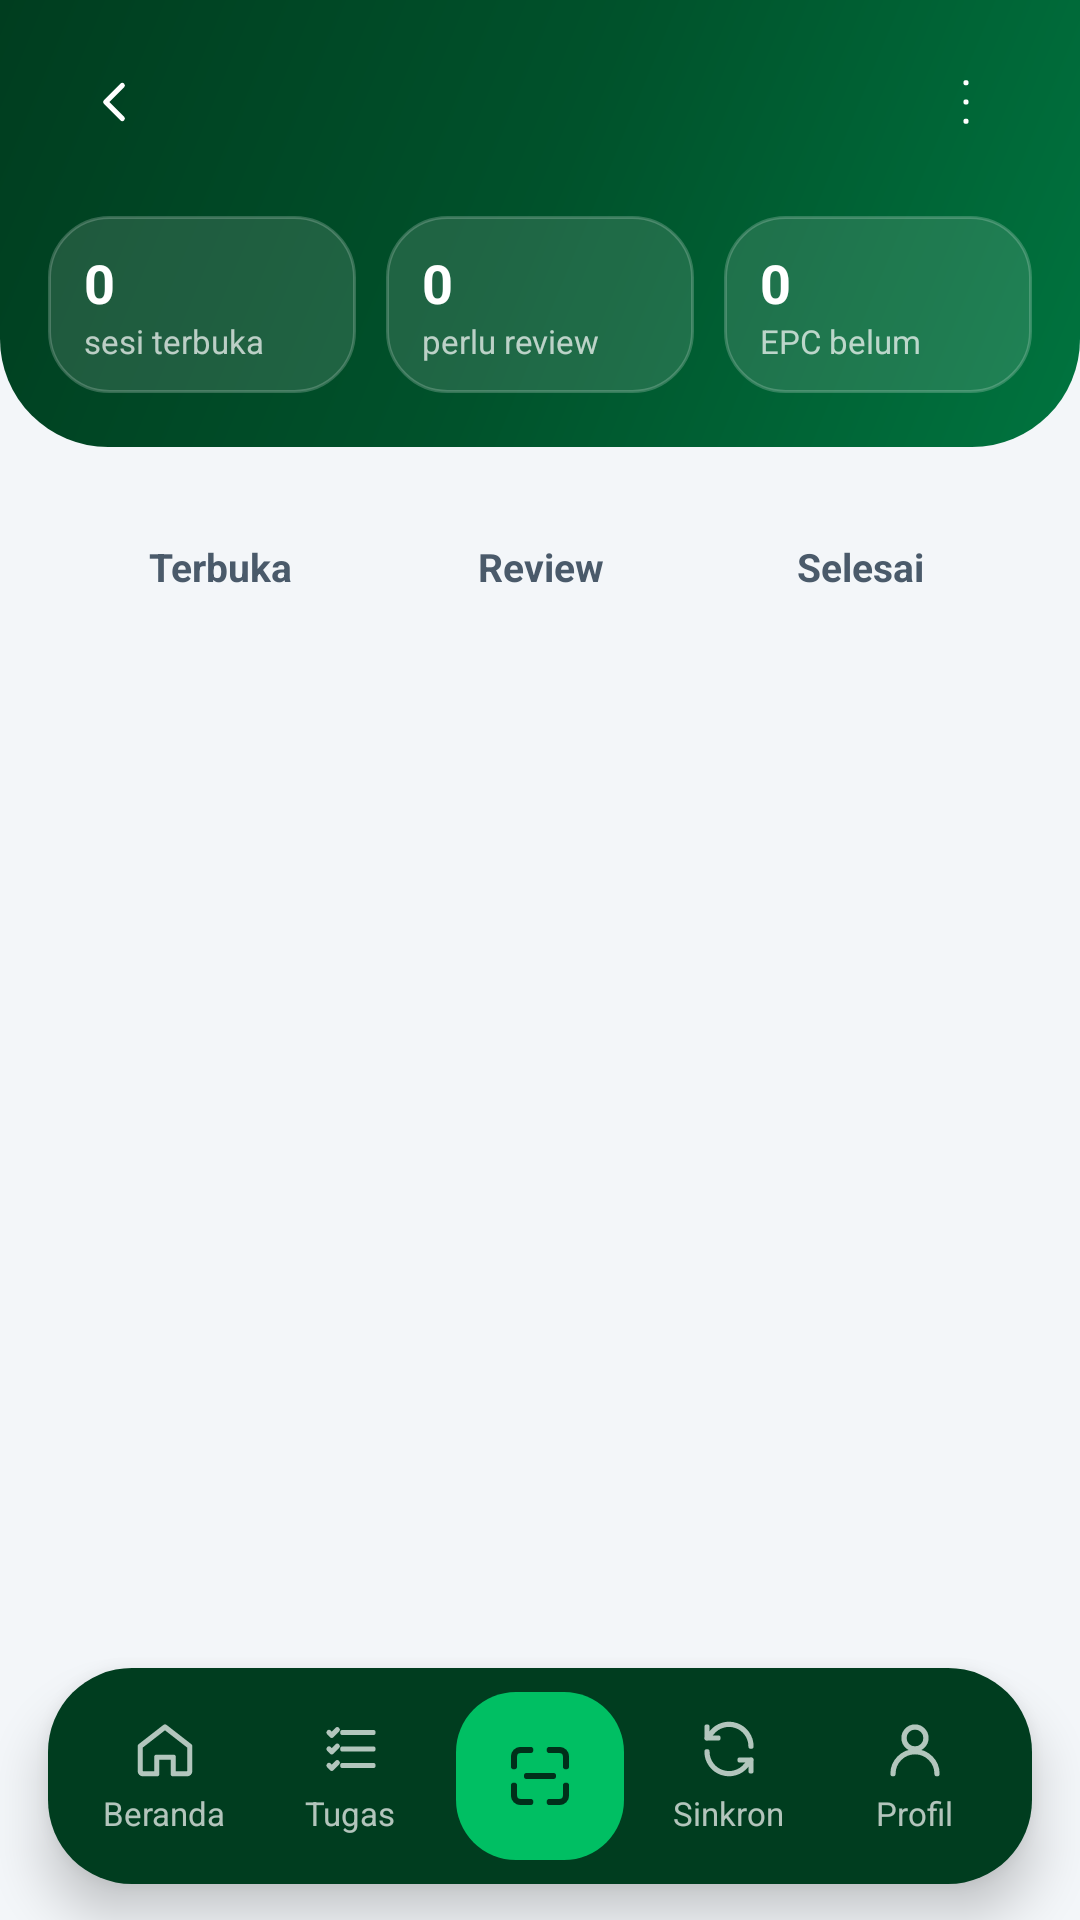

Where to tap for icons on this 1080px×1920px app screen, as point (x, y):
Kembali: point (114, 102)
scan: point (540, 1776)
